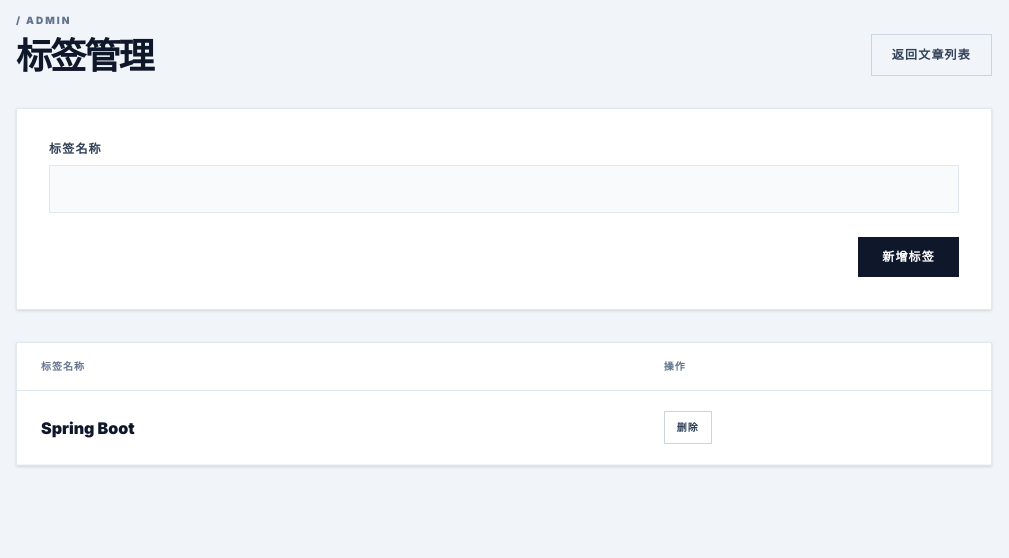
it: AdminTags page › loads tags and supports create/delete actions
Check: the text "Spring Boot" is shown, box top-left (41, 418), bottom-right (135, 438)
Type "Redis" into the field labelled "标签名称" at coordinates (504, 189), box top-left (49, 165), bottom-right (959, 213)
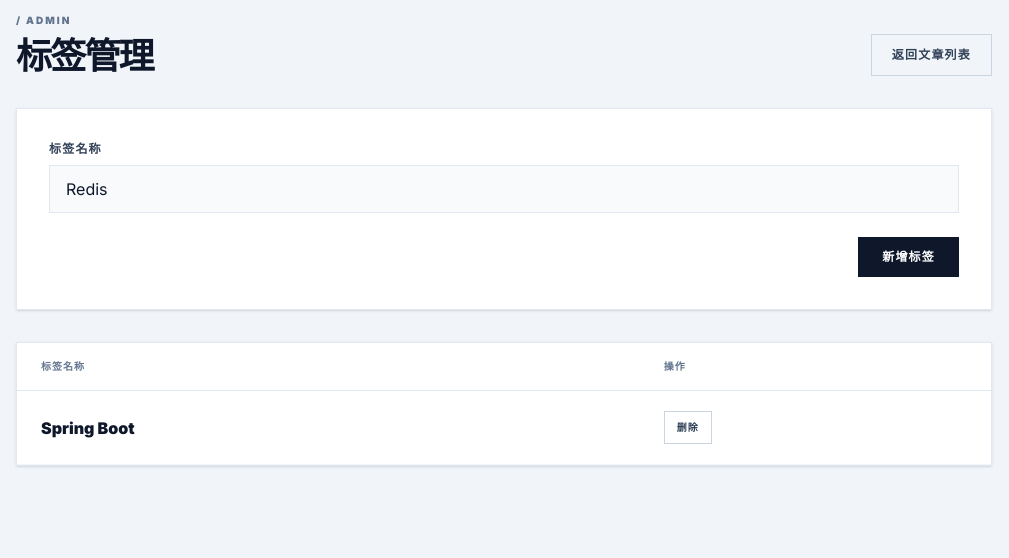
Click the button "新增标签" at coordinates (909, 257), box top-left (858, 237), bottom-right (959, 277)
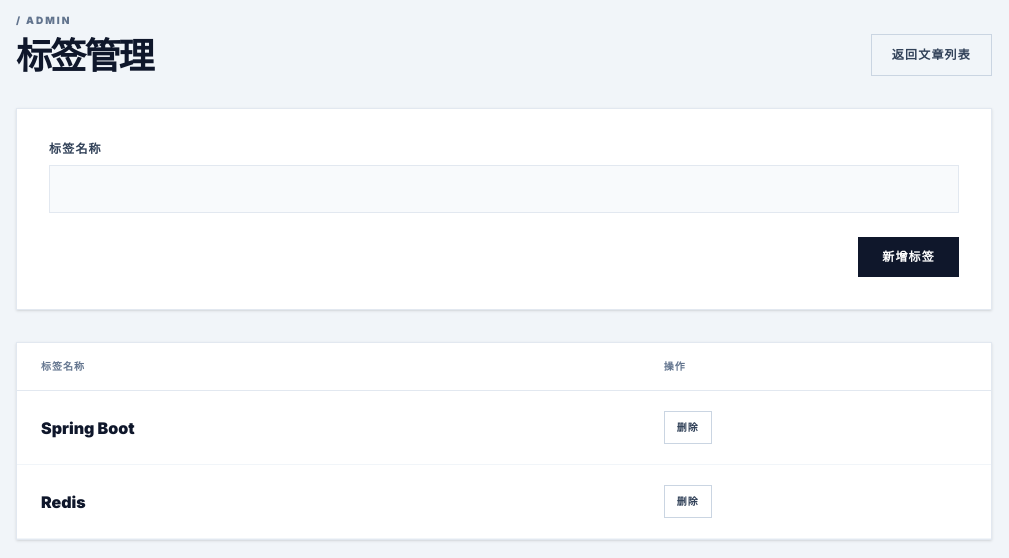
Check: the text "Redis" is shown, box top-left (41, 492), bottom-right (86, 512)
Click the button with aria-label "删除 Redis" at coordinates (688, 502), box top-left (664, 485), bottom-right (712, 518)
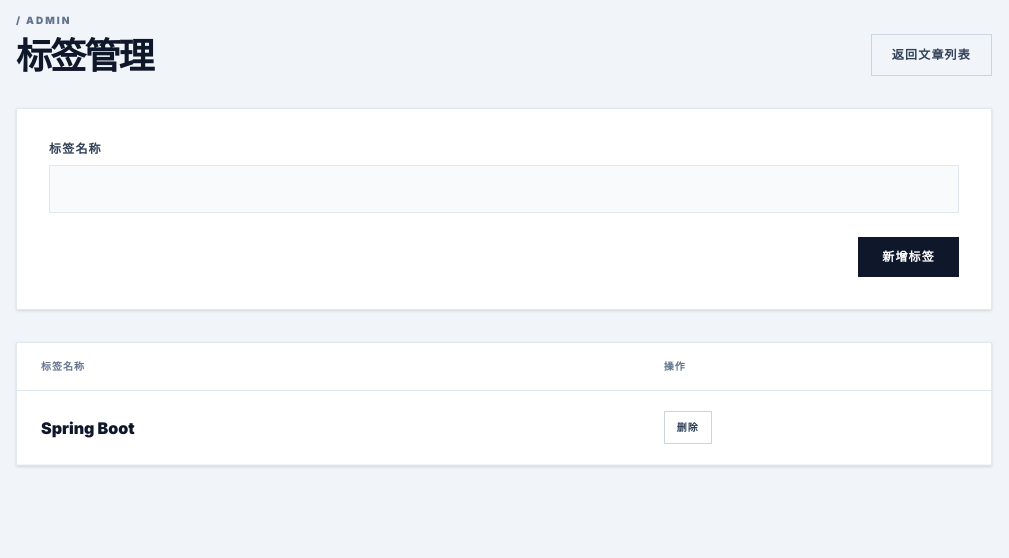
Check: the text "Redis" is gone
